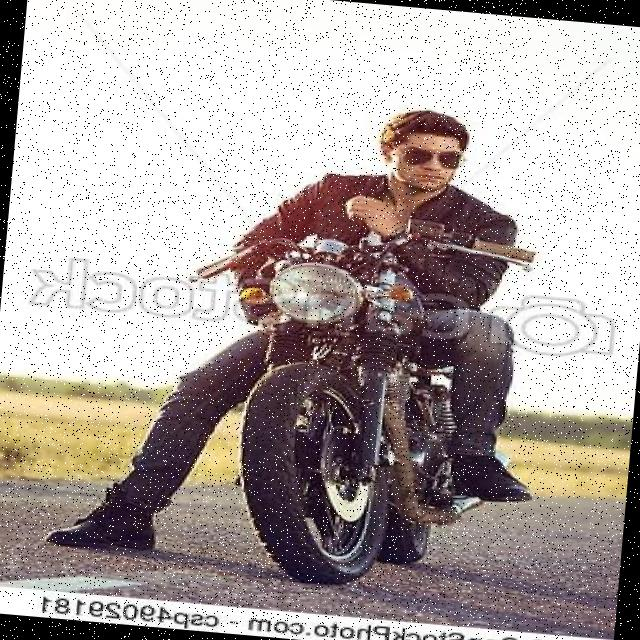No helmet: (368, 110, 470, 194)
